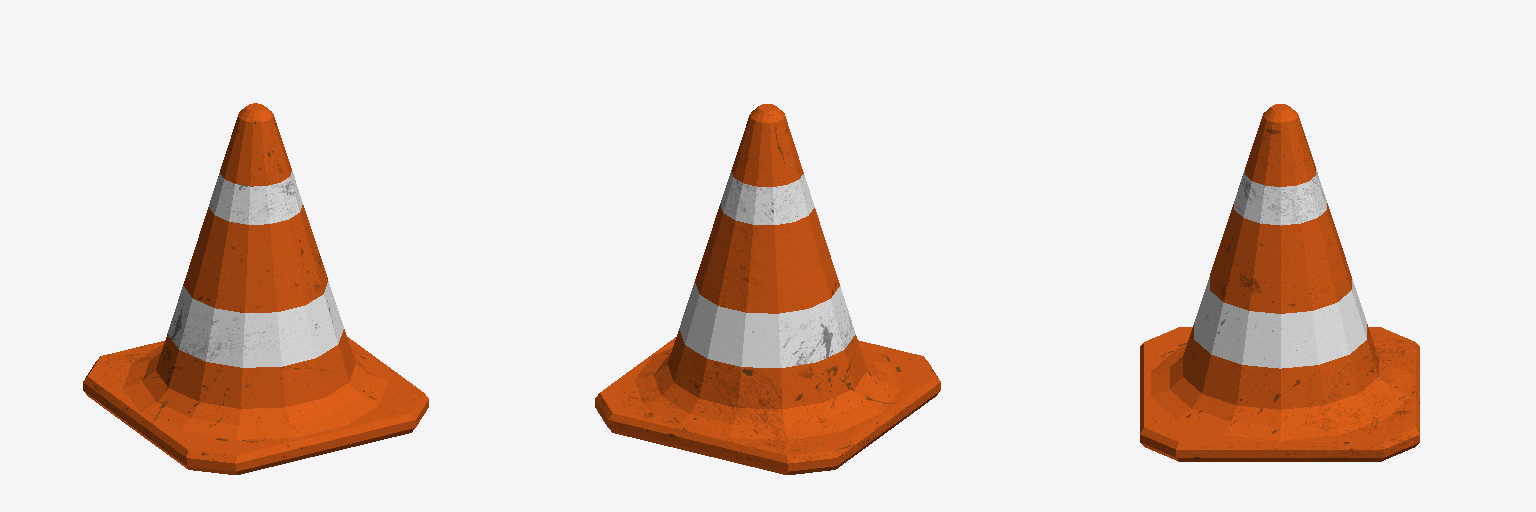
3 views of the same model, side by side, from view 1: azimuth 30°, elevation 25°; view 2: azimuth 150°, elevation 25°; view 3: azimuth 270°, elevation 25° (orthographic).
Visible parts, largest first — view 1: cone2; view 2: cone2; view 3: cone2.
Part boxes in pixels (x1,y1,x2,y2): cone2: (83, 103, 428, 474); cone2: (595, 104, 940, 474); cone2: (1140, 104, 1419, 461).
Size of the model in its own units: 29.96 by 35.06 by 29.96.
Materials: 1 (1 with a texture image).